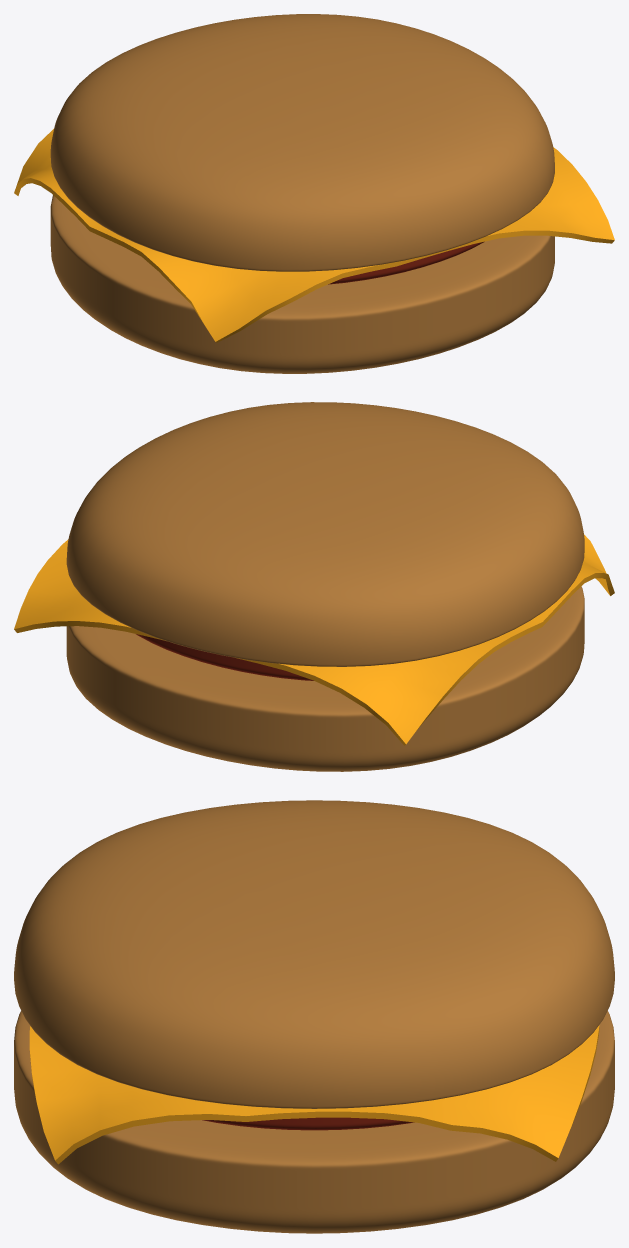
Rendered from burga.glb.
3 views of the same model, one above another, from view 1: azimuth 30°, elevation 25°; view 2: azimuth 150°, elevation 25°; view 3: azimuth 270°, elevation 25° (orthographic). The views are drawn at different scales.
Parts seen in each view (by area): view 1: Cube.002, Cube, Plane, Cube.001; view 2: Cube.002, Cube, Plane, Cube.001; view 3: Cube.002, Cube, Plane, Cube.001.
Part boxes in pixels (left/top/right/bottom): Cube.002: left=50, top=14, right=554, bottom=271; Cube: left=50, top=195, right=554, bottom=373; Plane: left=14, top=129, right=614, bottom=342; Cube.001: left=328, top=241, right=484, bottom=284; Cube.002: left=66, top=402, right=584, bottom=666; Cube: left=66, top=586, right=584, bottom=771; Plane: left=14, top=534, right=614, bottom=745; Cube.001: left=136, top=634, right=313, bottom=680; Cube.002: left=14, top=800, right=614, bottom=1108; Cube: left=14, top=1011, right=614, bottom=1233; Plane: left=29, top=1025, right=599, bottom=1164; Cube.001: left=202, top=1117, right=414, bottom=1130.
Bounding box in the file's own units: 8.98 × 4.23 × 8.98.
